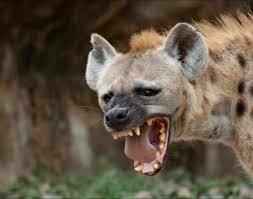hyenas: (65, 18, 253, 176)
